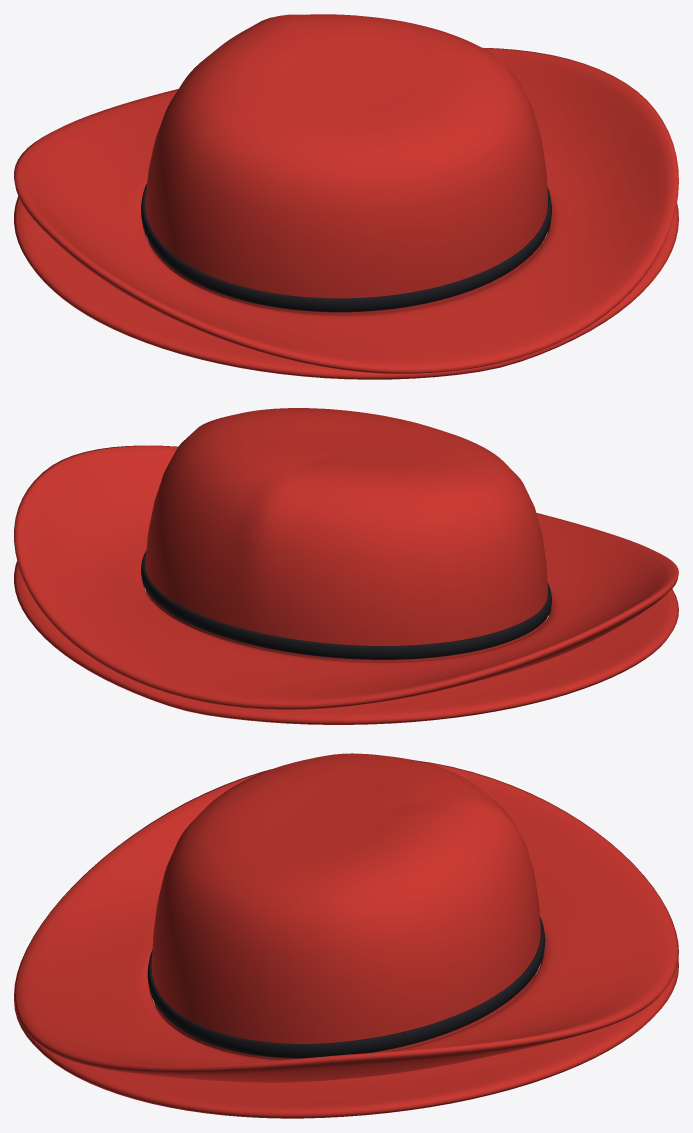
The model's file is hw_cowboy.glb.
The picture shows the model from 3 angles, top to bottom: view 1: azimuth 30°, elevation 25°; view 2: azimuth 150°, elevation 25°; view 3: azimuth 270°, elevation 25°; orthographic projection. The views are drawn at different scales.
Parts seen in each view (by area): view 1: hw_cowboy, hw_cowboy_brim, hw_cowboy@bush_brim, hw_cowboy_band; view 2: hw_cowboy, hw_cowboy_brim, hw_cowboy@bush_brim, hw_cowboy_band; view 3: hw_cowboy, hw_cowboy_brim, hw_cowboy@bush_brim, hw_cowboy_band.
Part boxes in pixels (box(x1,y1,x2,y2)): hw_cowboy: box(145, 14, 547, 314); hw_cowboy_brim: box(14, 47, 678, 373); hw_cowboy@bush_brim: box(14, 196, 678, 379); hw_cowboy_band: box(141, 183, 551, 312); hw_cowboy: box(145, 408, 547, 661); hw_cowboy_brim: box(14, 445, 678, 709); hw_cowboy@bush_brim: box(14, 561, 678, 724); hw_cowboy_band: box(141, 551, 551, 659); hw_cowboy: box(151, 753, 540, 1060); hw_cowboy_brim: box(14, 760, 678, 1082); hw_cowboy@bush_brim: box(14, 959, 678, 1118); hw_cowboy_band: box(147, 917, 545, 1058).
Size of the model in its own units: 1.33 by 0.4203 by 1.24.
